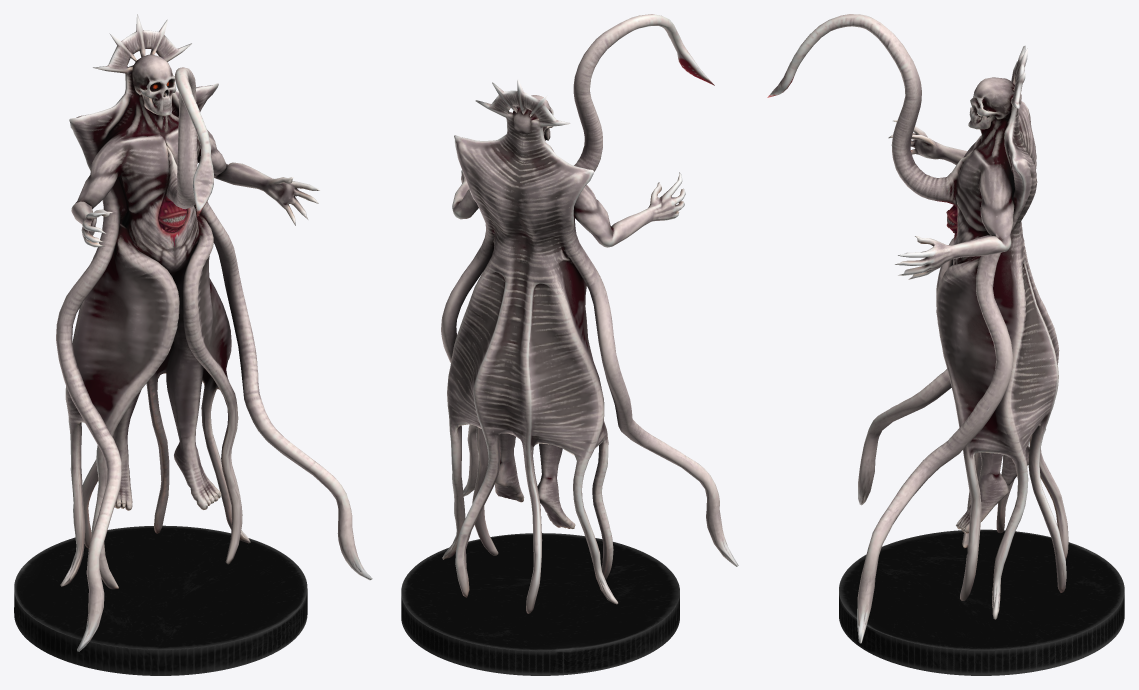
Rendered from MZ4250 - Eldritch Lich.glb.
The picture shows the model from 3 angles, left to right: view 1: azimuth 30°, elevation 25°; view 2: azimuth 150°, elevation 25°; view 3: azimuth 270°, elevation 25°; orthographic projection. The views are drawn at different scales.
Visible parts, largest first — view 1: lich_low.001, base_low.001; view 2: lich_low.001, base_low.001; view 3: lich_low.001, base_low.001.
Part boxes in pixels (x1,y1,x2,y2): lich_low.001: [56, 14, 372, 651]; base_low.001: [14, 525, 307, 675]; lich_low.001: [441, 14, 738, 613]; base_low.001: [401, 533, 679, 675]; lich_low.001: [767, 14, 1068, 643]; base_low.001: [839, 529, 1124, 675].
Bounding box in the file's own units: 3.39 × 6.54 × 3.65.
Materials: 1 (1 with a texture image).
